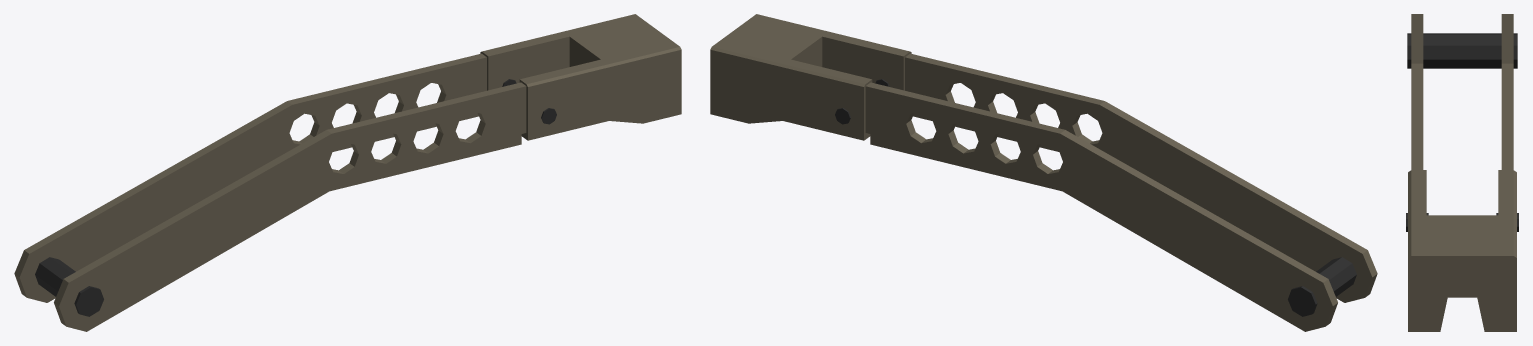
File: Shotgun5_03_2.fbx
The picture shows the model from 3 angles, left to right: view 1: azimuth 30°, elevation 25°; view 2: azimuth 150°, elevation 25°; view 3: azimuth 270°, elevation 25°; orthographic projection. The views are drawn at different scales.
Parts seen in each view (by area): view 1: Shotgun5_03_2; view 2: Shotgun5_03_2; view 3: Shotgun5_03_2.
Part boxes in pixels (bbox=[...]): Shotgun5_03_2: bbox=[14, 14, 681, 331]; Shotgun5_03_2: bbox=[710, 14, 1377, 331]; Shotgun5_03_2: bbox=[1406, 14, 1518, 331].
Size of the model in its own units: 0.4016 by 0.0868 by 0.0553.
